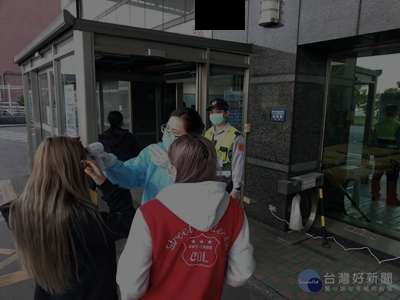with_mask: (161, 124, 184, 152), (209, 108, 226, 126)
